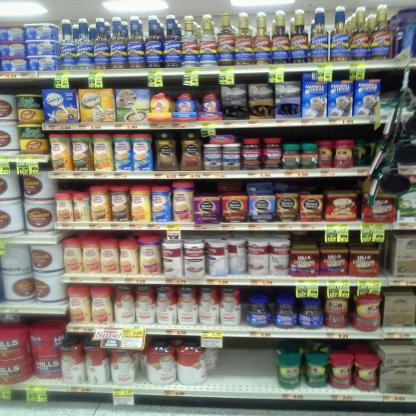Void: (225, 347, 273, 386), (288, 128, 372, 136), (302, 180, 358, 191), (201, 181, 218, 195), (382, 72, 395, 87)
